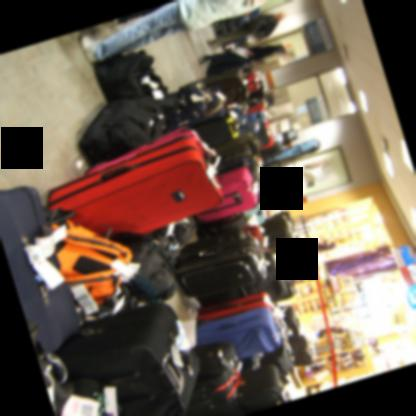backpack: (47, 218, 132, 307)
suitcase: (0, 0, 393, 415), (45, 133, 223, 234), (55, 303, 203, 416), (0, 182, 83, 357), (196, 247, 301, 307), (173, 235, 269, 298), (185, 363, 291, 416), (193, 306, 280, 359), (187, 339, 245, 413), (194, 167, 259, 222), (196, 292, 278, 321), (188, 113, 238, 149), (259, 214, 299, 254), (259, 358, 288, 375)
